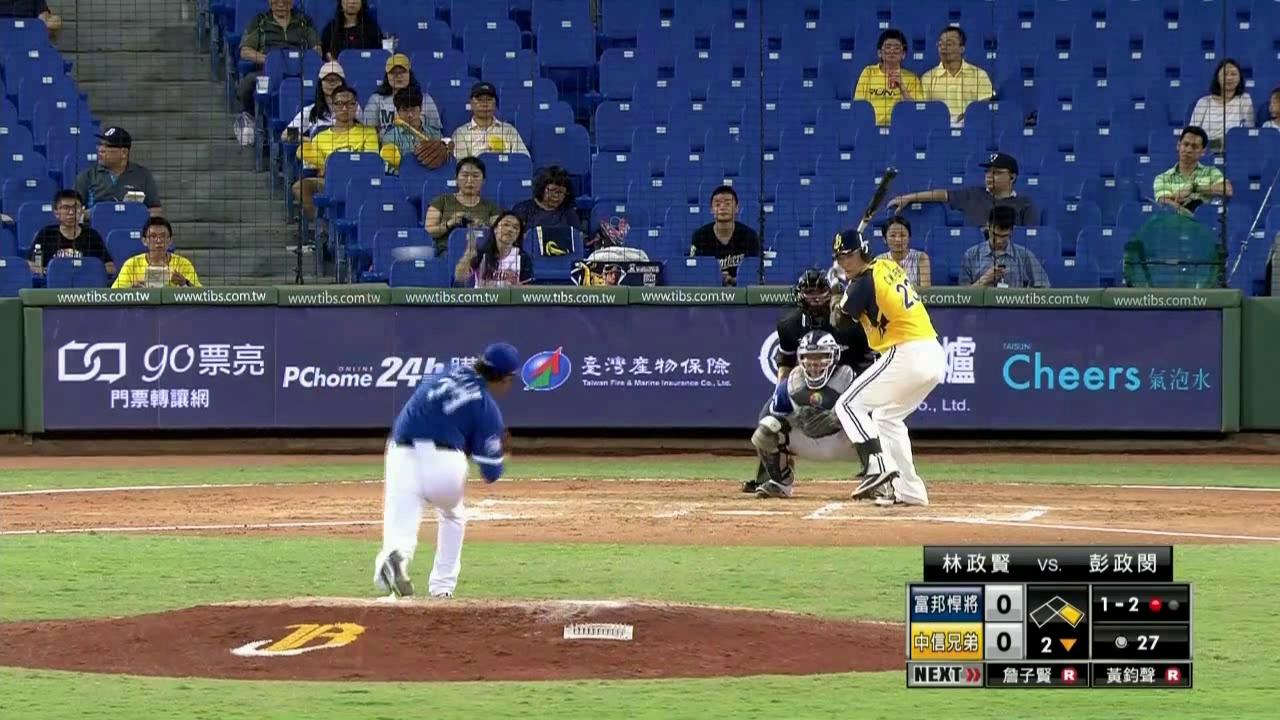ball: (406, 243, 424, 260)
base: (1026, 592, 1086, 628)
bat: (830, 162, 900, 273)
out: (1146, 588, 1183, 615)
score1: (988, 588, 1020, 619)
score2: (985, 624, 1019, 658)
session: (1026, 628, 1084, 659)
strikeball: (1093, 588, 1143, 621)
total: (1096, 629, 1186, 658)
